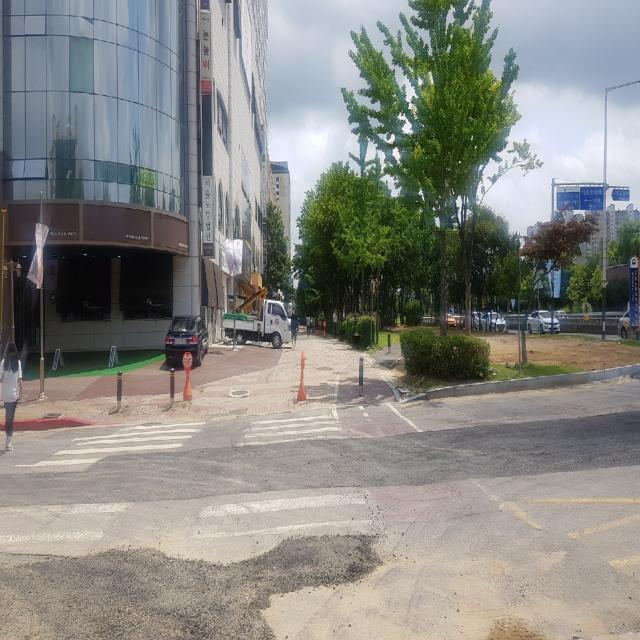횡단보도: (1, 412, 377, 548)
